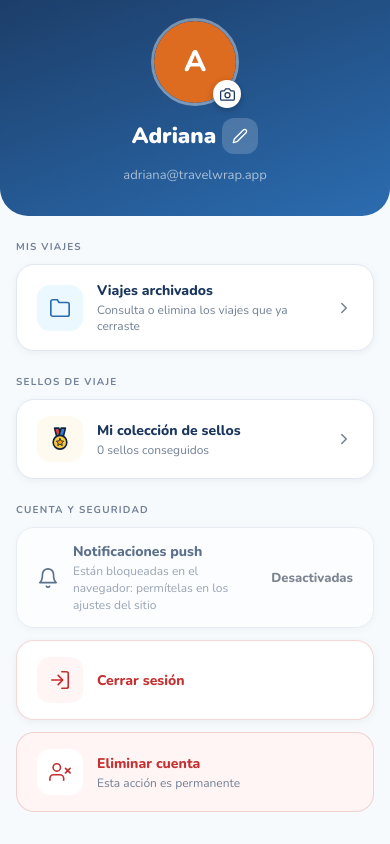
Perfil · eliminar cuenta › al cancelar cierra el diálogo y no elimina nada
(page scrolled)
Click the button "Eliminar cuenta Esta acción es permanente". click: (195, 772)
box: [16,732,374,812]
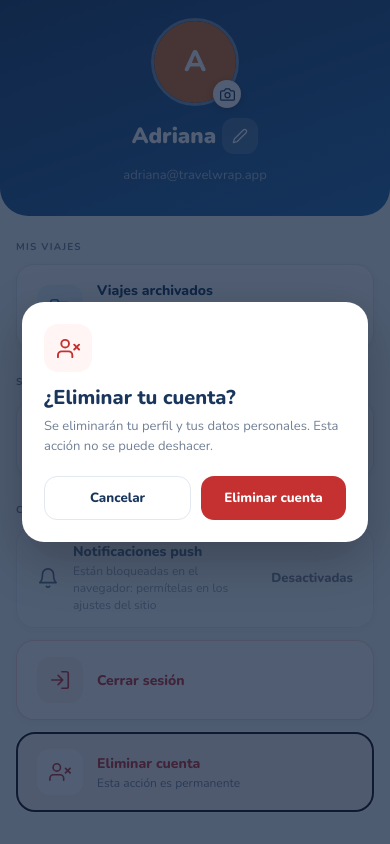
Click the button "Cancelar". click: (118, 498)
box: [44,476,191,520]
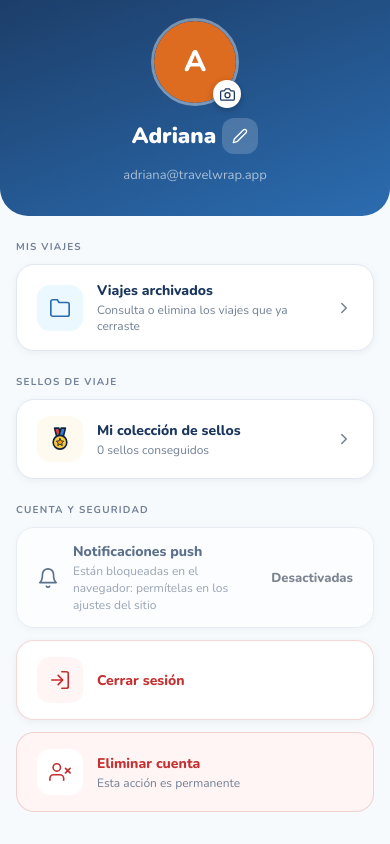
Result: the dialog is gone
